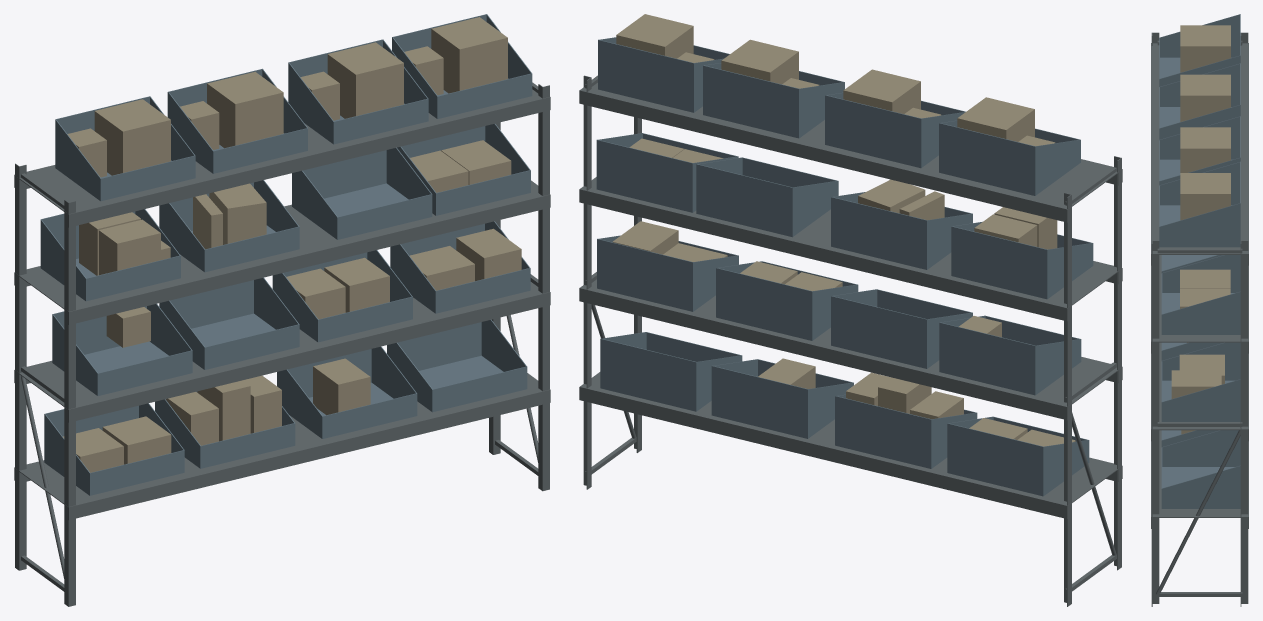
The model's file is bin-rack.glb.
The picture shows the model from 3 angles, left to right: view 1: azimuth 30°, elevation 25°; view 2: azimuth 150°, elevation 25°; view 3: azimuth 270°, elevation 25°; orthographic projection. The views are drawn at different scales.
Visible parts, largest first — view 1: bin_rack; view 2: bin_rack; view 3: bin_rack.
Part boxes in pixels (x1=…): bin_rack: x1=14, y1=14, x2=550, y2=606; bin_rack: x1=579, y1=14, x2=1122, y2=606; bin_rack: x1=1151, y1=14, x2=1248, y2=606.
Size of the model in its own units: 3.1 by 2.74 by 0.606.
